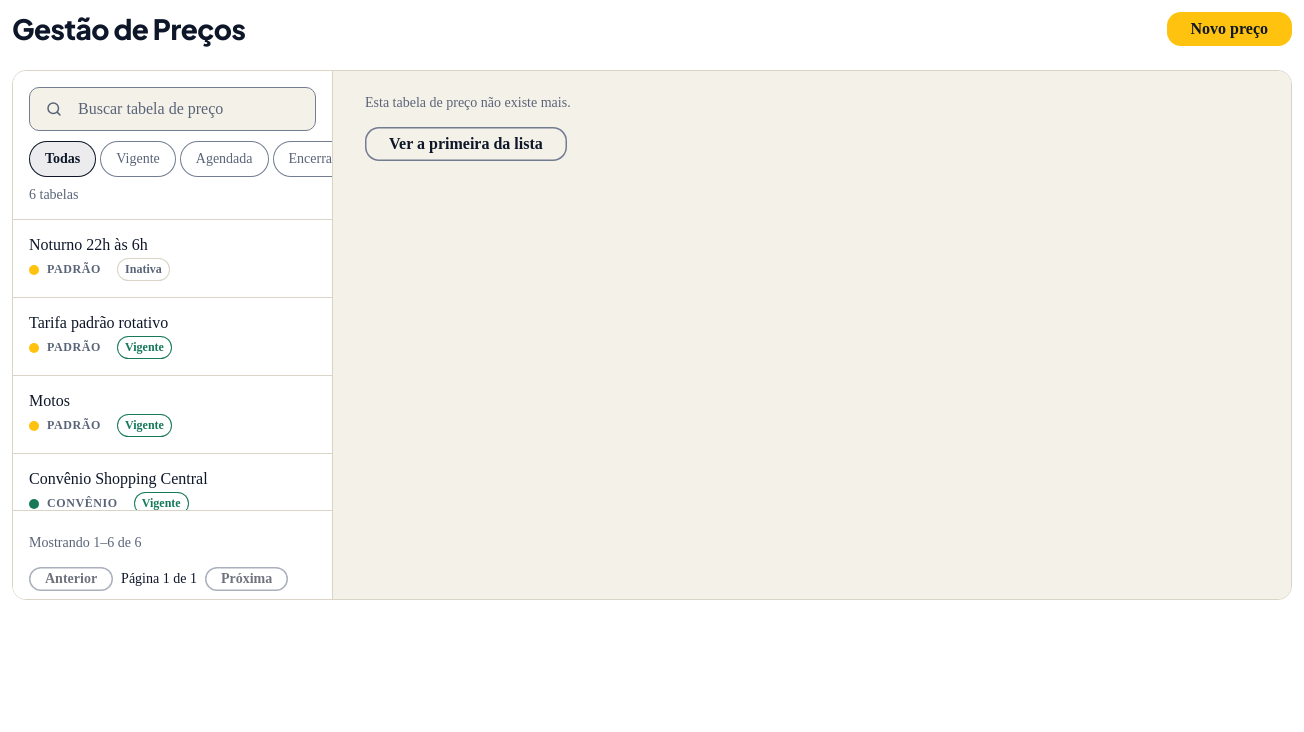
PrecosMasterDetail: estados › tabela removida mostra o aviso e leva à primeira da lista
The width and height of the screenshot is (1304, 732).
expect the list named "Tabelas de preço" is shown: met, box [13,220,332,510]
expect the text "Esta tabela de preço não existe mais." is shown: met, box [365,95,571,111]
Step 1. Click the button "Ver a primeira da lista" → (466, 144), box [365,127,567,161]
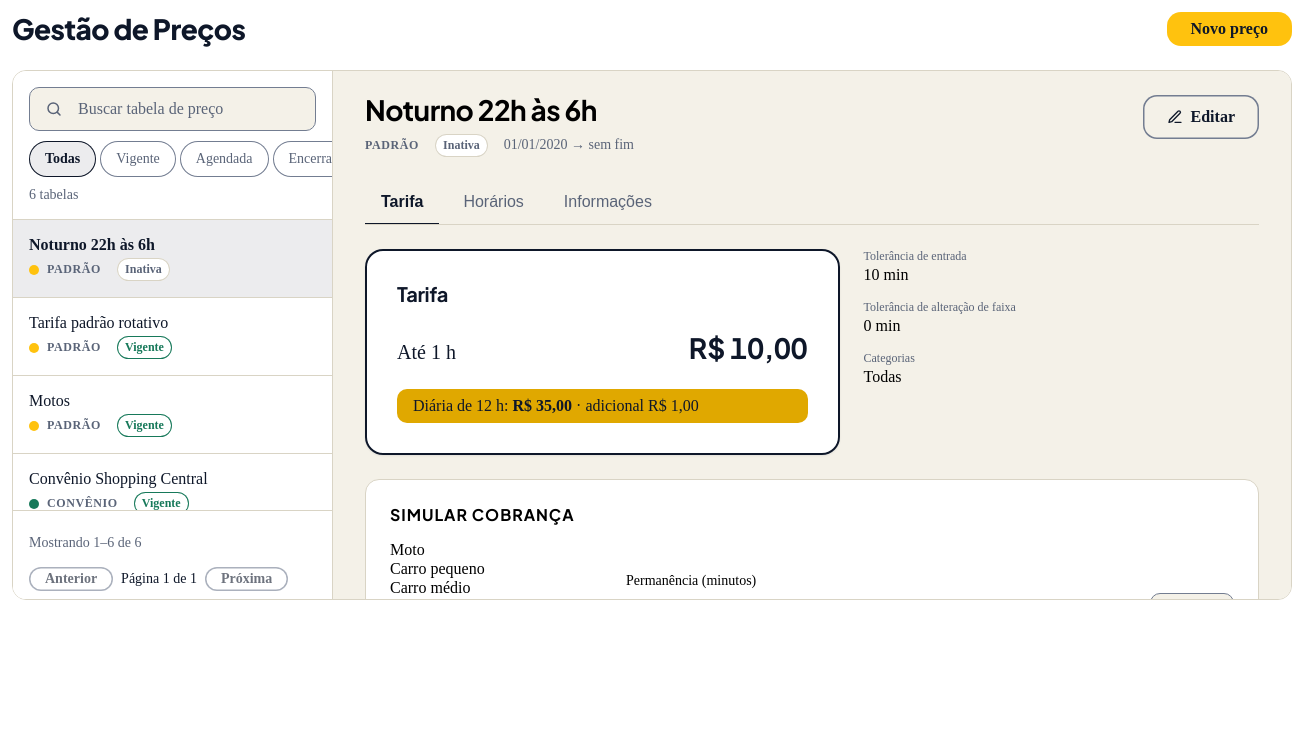
expect the heading "Noturno 22h às 6h" is shown: met, box [365,95,634,126]
